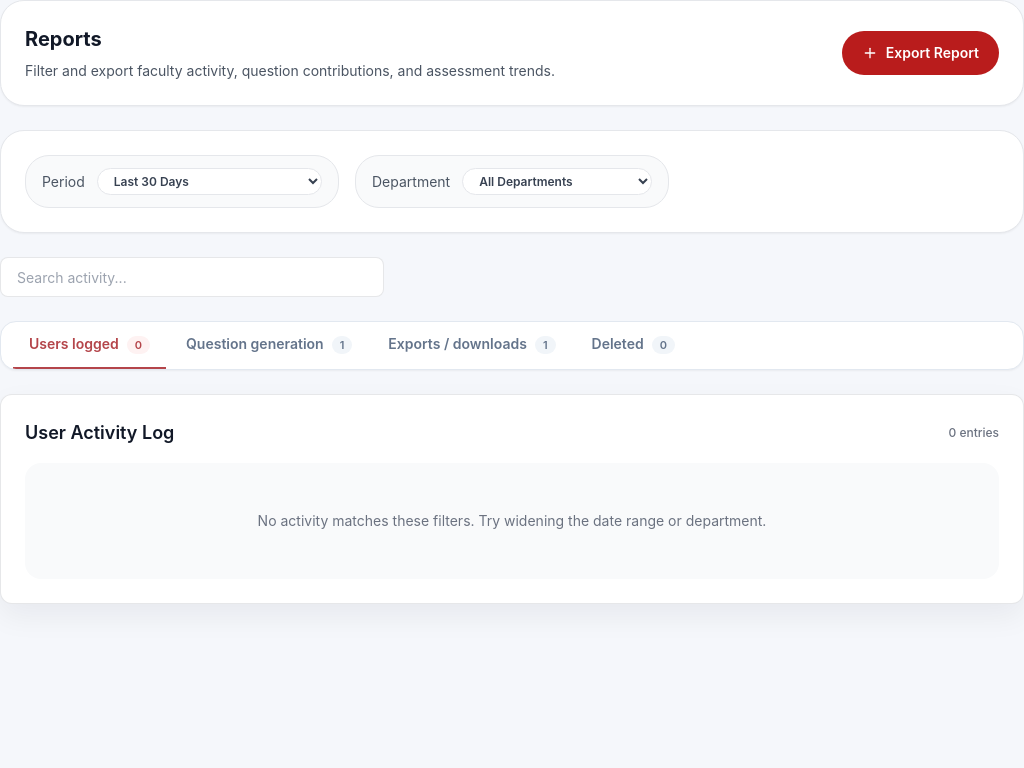
Test: Reports exports the selected activity as a CSV download
This screenshot has width=1024, height=768.
Check: the field with placeholder "Search activity..." is shown, box x1=0 y1=257 x2=384 y2=297
Click the tab "Exports / downloads1": x=472, y=346 x1=372 y1=322 x2=572 y2=369
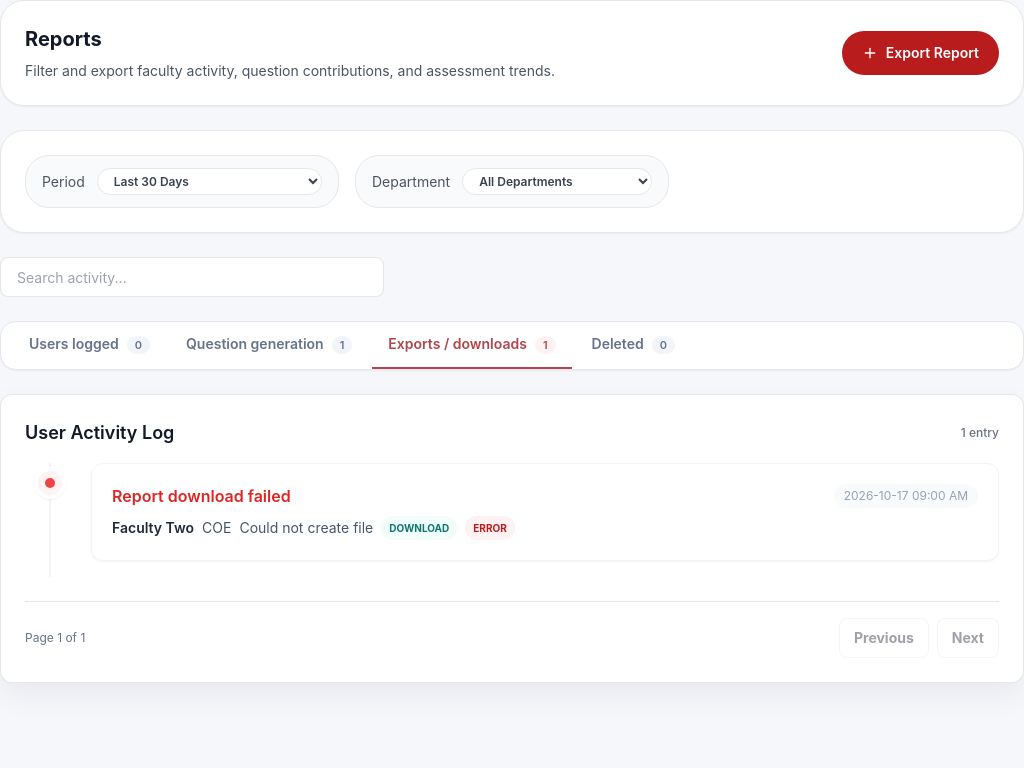
Check: the heading "Report download failed" is shown, box x1=112 y1=484 x2=291 y2=508
Click the button "Export Report": x=920, y=53 x1=842 y1=31 x2=999 y2=75
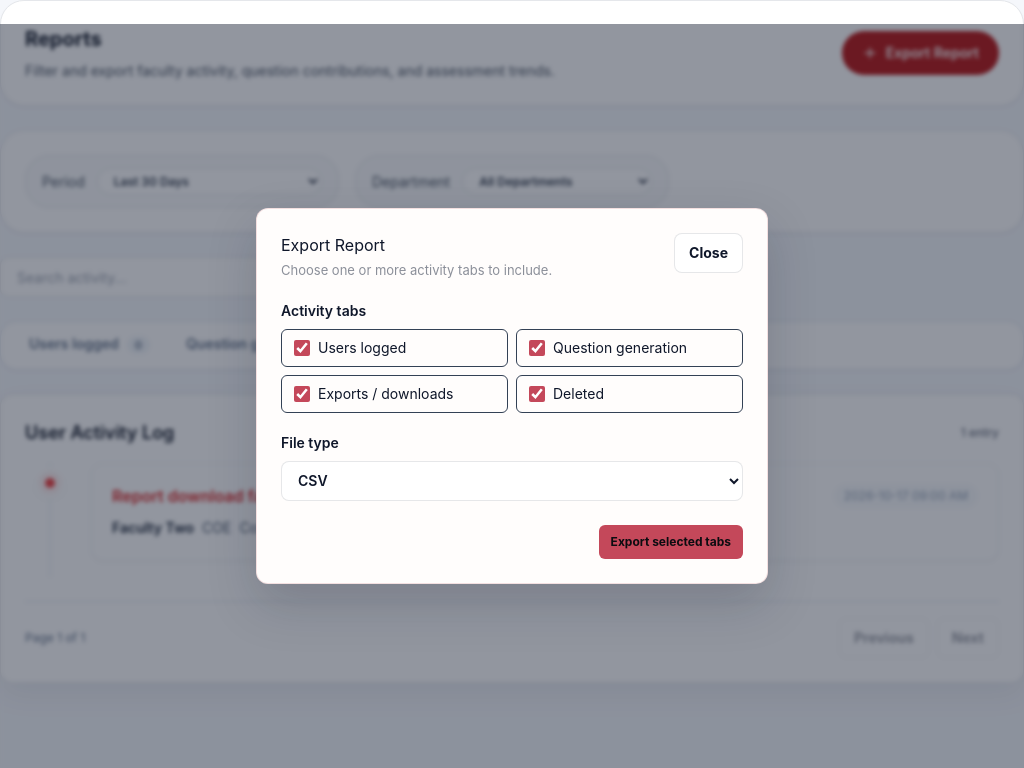
Click the button "Export selected tabs": x=671, y=542 x1=599 y1=525 x2=743 y2=559
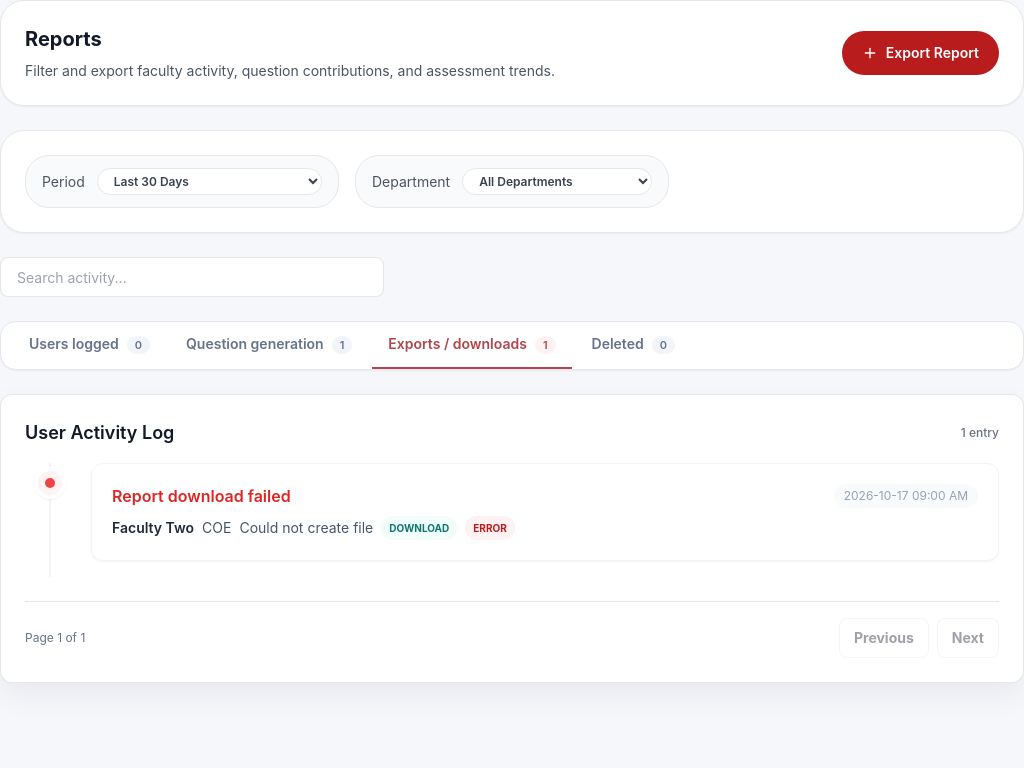
Check: the button "Export selected tabs" is gone
